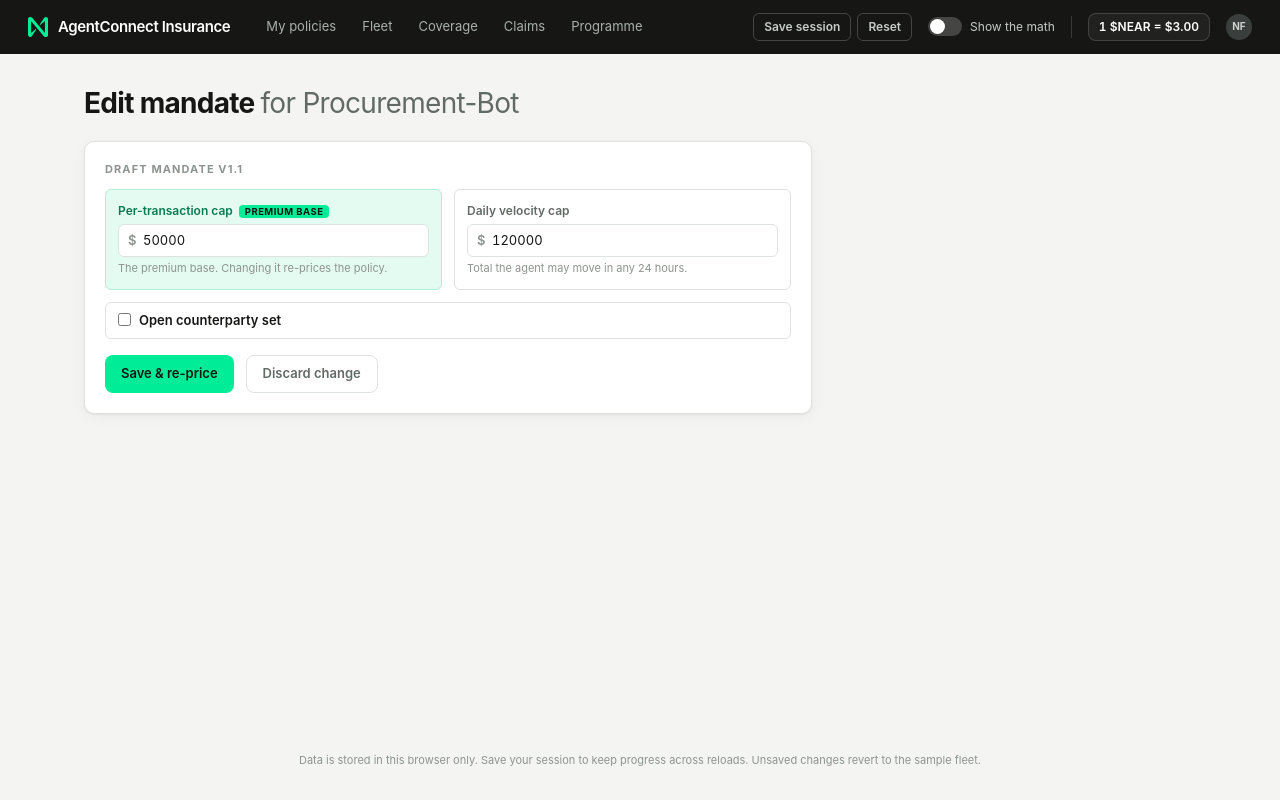
Test case: fix #5 — mandate edit: draft changes invalidate the saved edit › editing after save closes the sheet and clears the pending edit
Replace the text in the number field with test id "edit-cap-perTx" with "100000". click: (274, 241)
box: [118, 224, 429, 257]
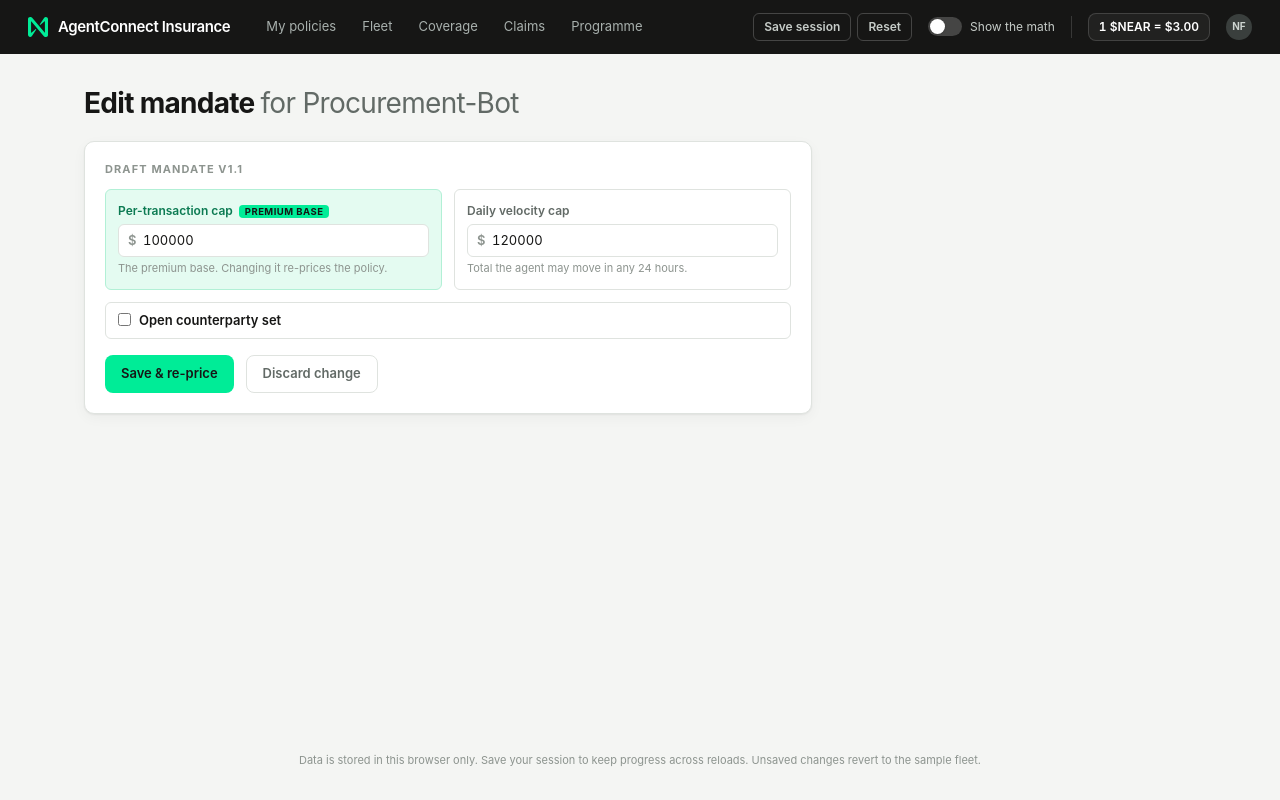
Click the button with test id "save-reprice". click: (169, 374)
box: [105, 355, 234, 393]
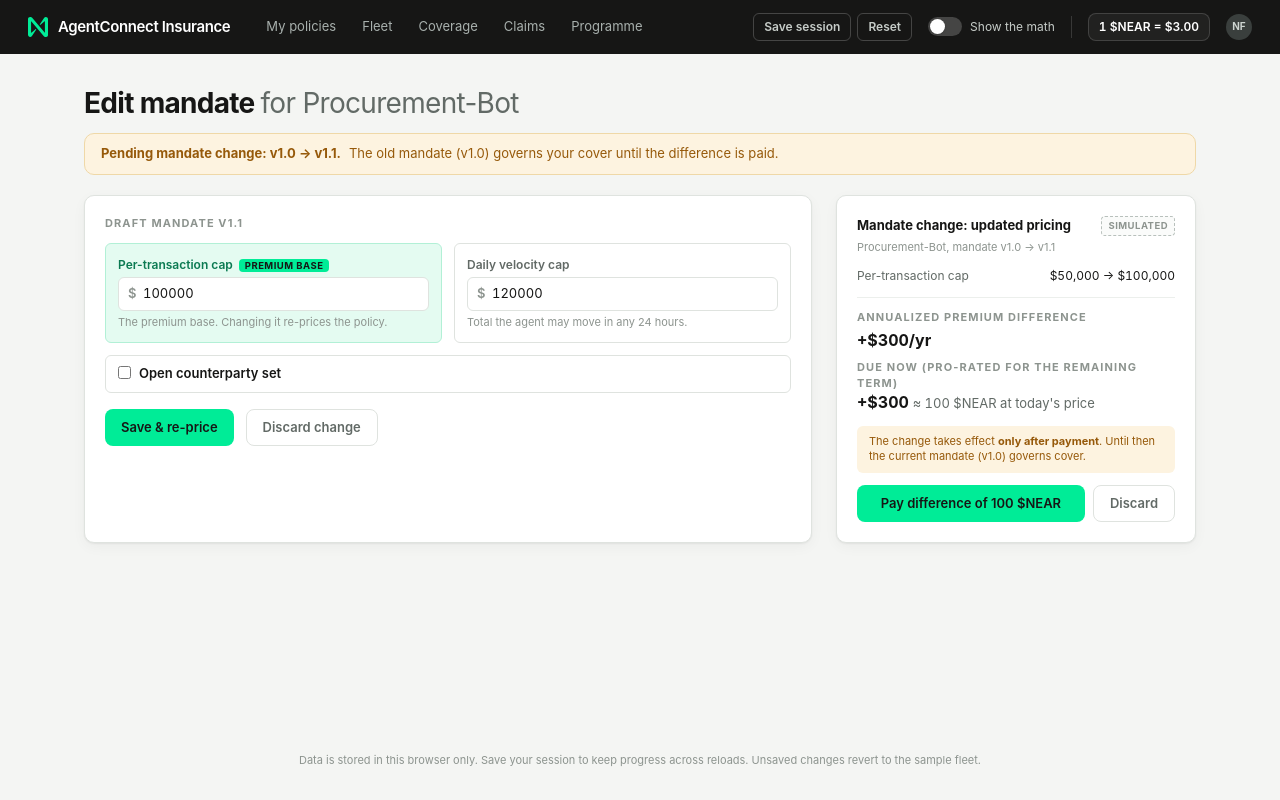
Now the element with test id "repricing-sheet" is shown, box [836, 194, 1196, 543]
Note: Diverge the draft AFTER saving — the stale sheet must not stay payable.
Replace the text in the number field with test id "edit-cap-perTx" with "200000". click: (274, 294)
box: [118, 277, 429, 311]
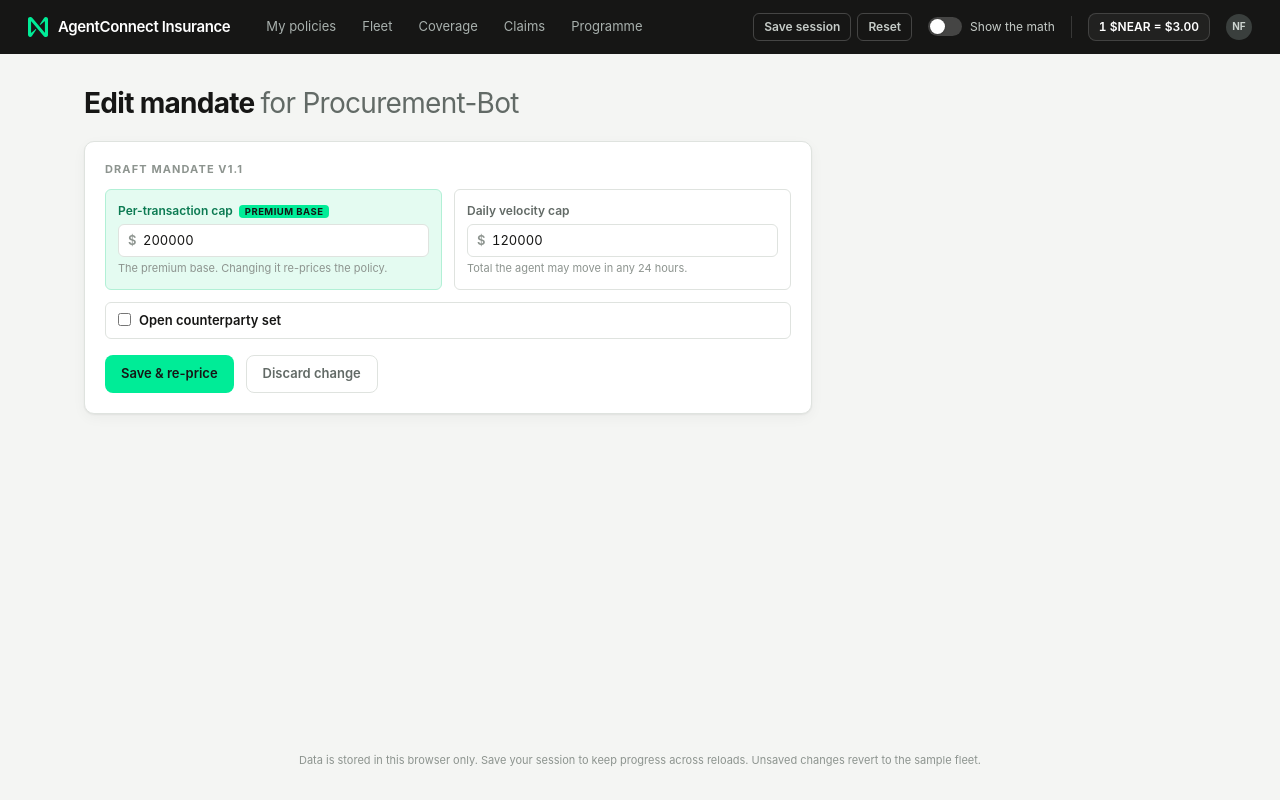
Now the element with test id "repricing-sheet" is gone
